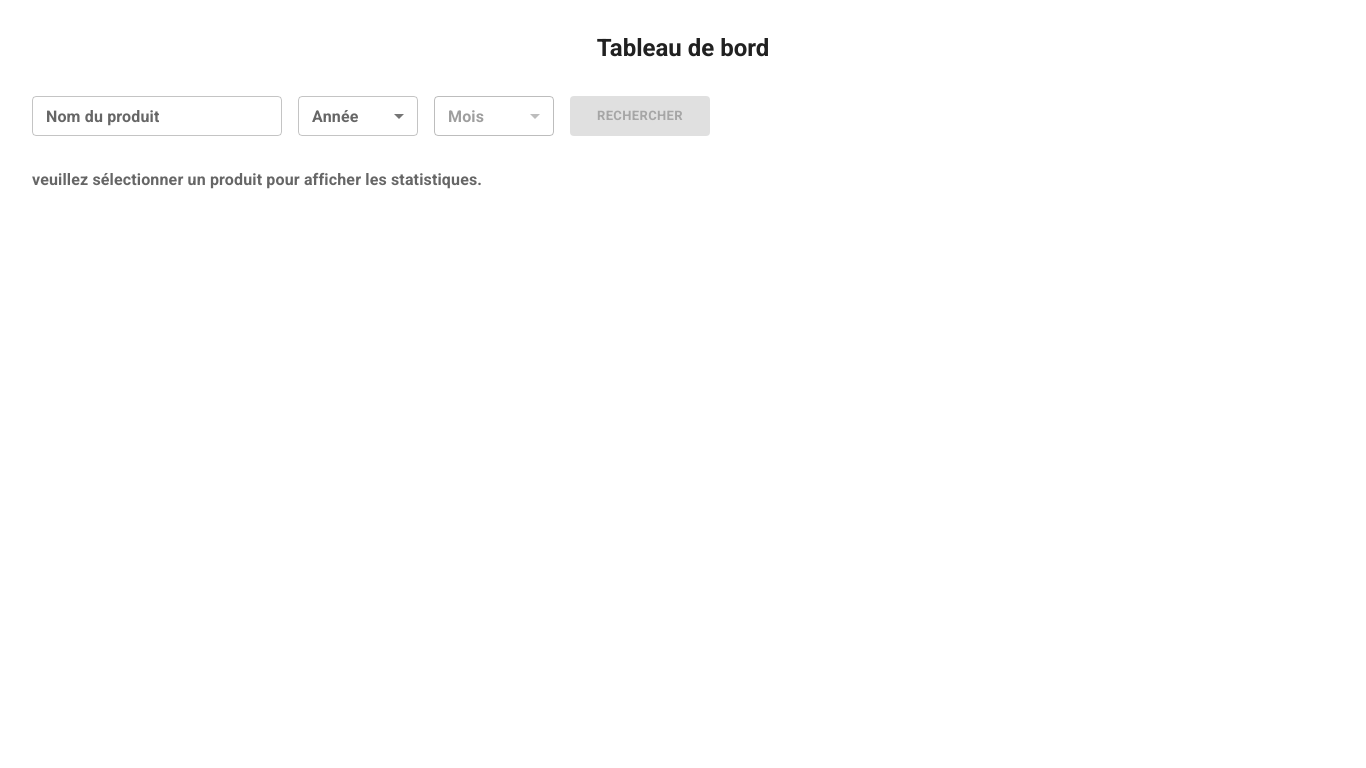
Test: DashboardPage › shows a message when the returned data is empty
The width and height of the screenshot is (1366, 768).
In the dropdown labelled "Nom du produit": (140,116) [38,102,243,130], type "Tomates"
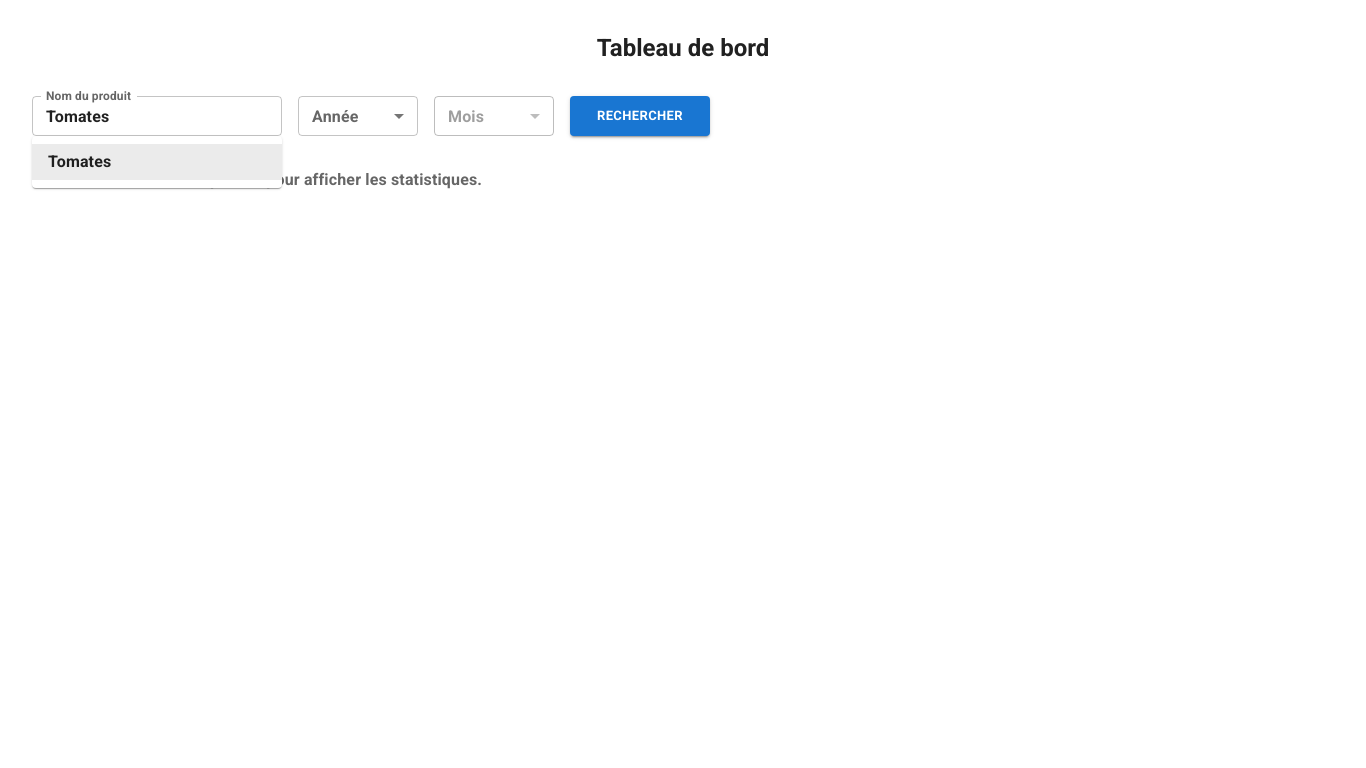
Click the button "Rechercher": (640,116) [570,96,710,136]
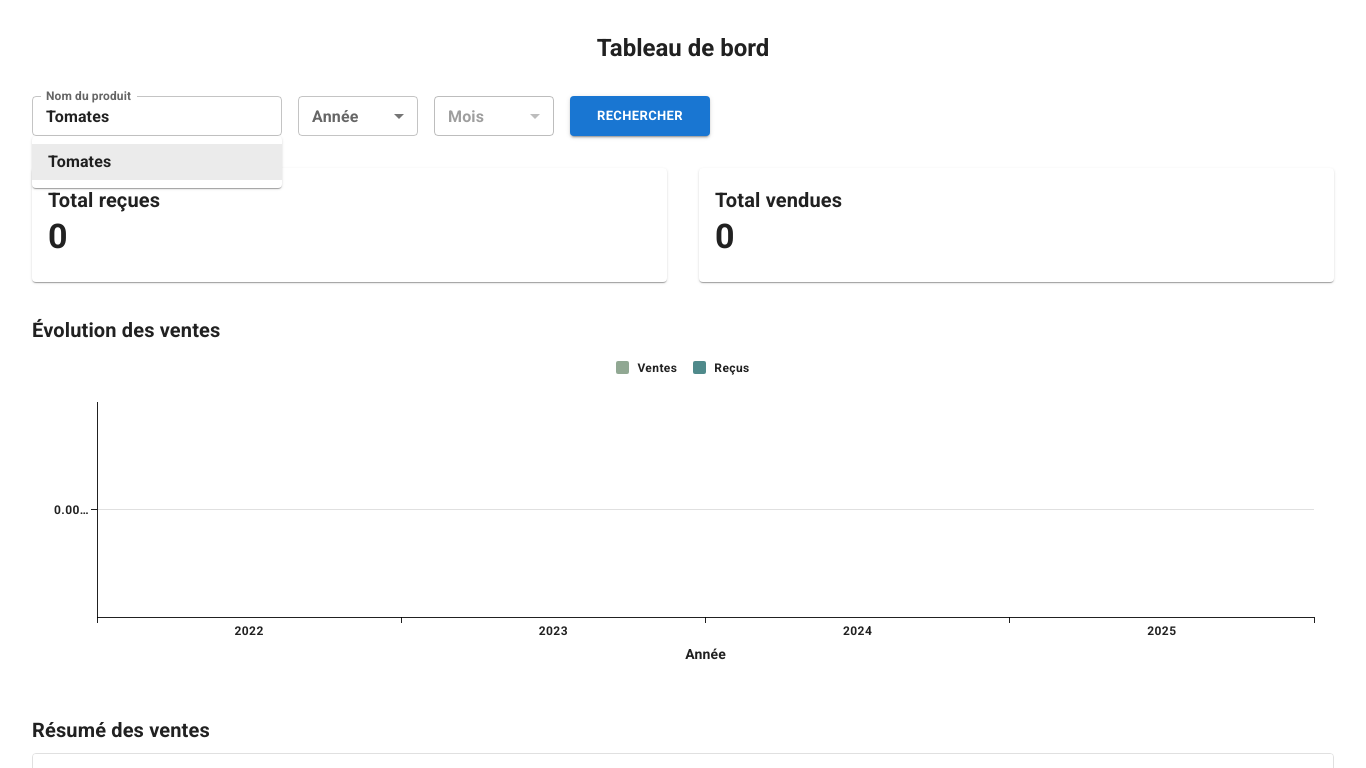
Expected: the heading "Total reçues" is shown, [48,188,160,212]
Expected: the heading "Total vendues" is shown, [715,188,842,212]
Expected: the 1st heading "0" is shown, [48,216,68,256]
